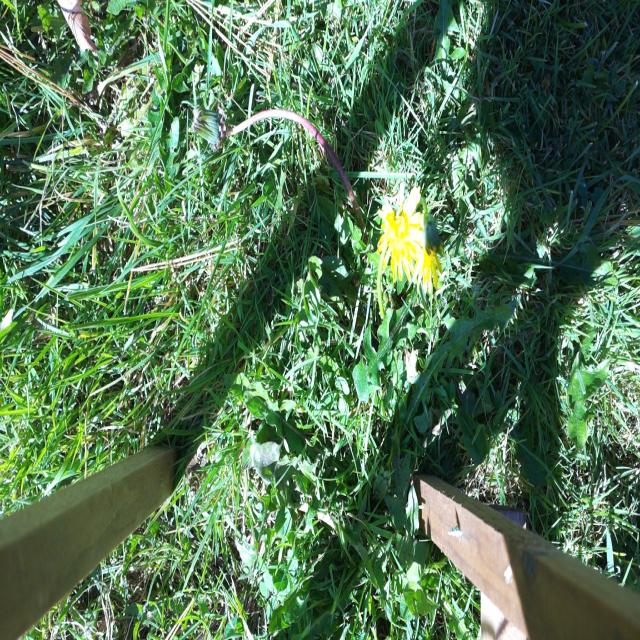base: (352, 212, 370, 249), (373, 298, 392, 328), (409, 182, 425, 212)
flower: (376, 184, 446, 288), (192, 102, 232, 159), (422, 207, 446, 265)
